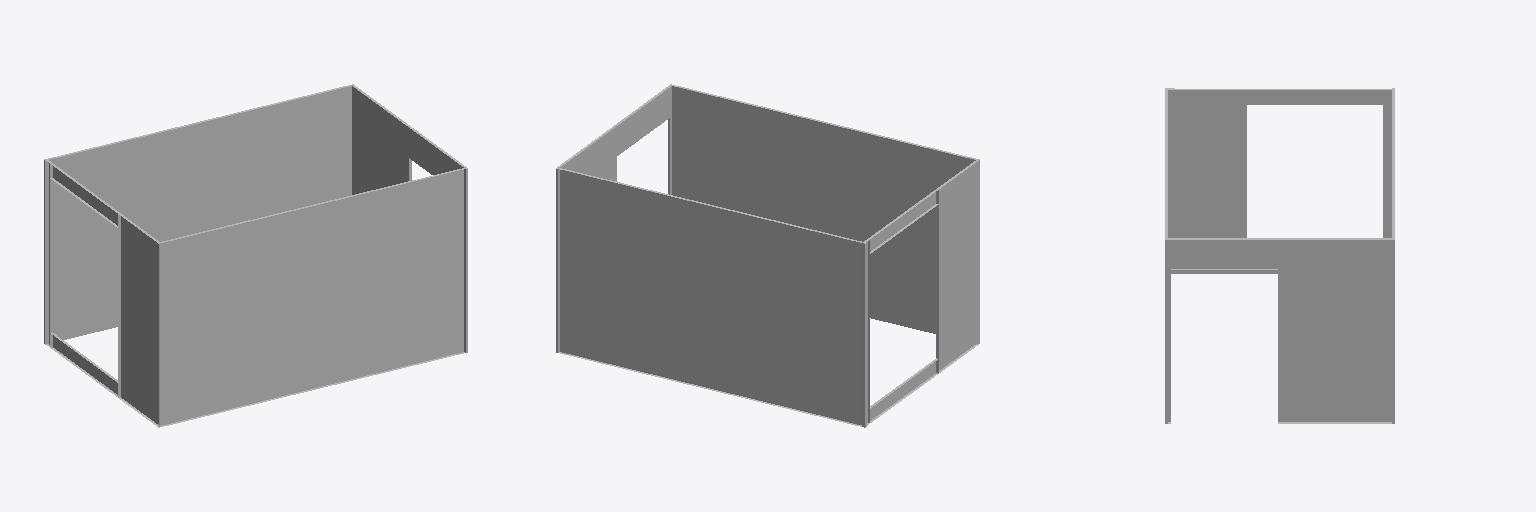
File: housesp_003.obj
3 views of the same model, side by side, from view 1: azimuth 30°, elevation 25°; view 2: azimuth 150°, elevation 25°; view 3: azimuth 270°, elevation 25° (orthographic).
Bounding box in the file's own units: 440 × 250 × 283.